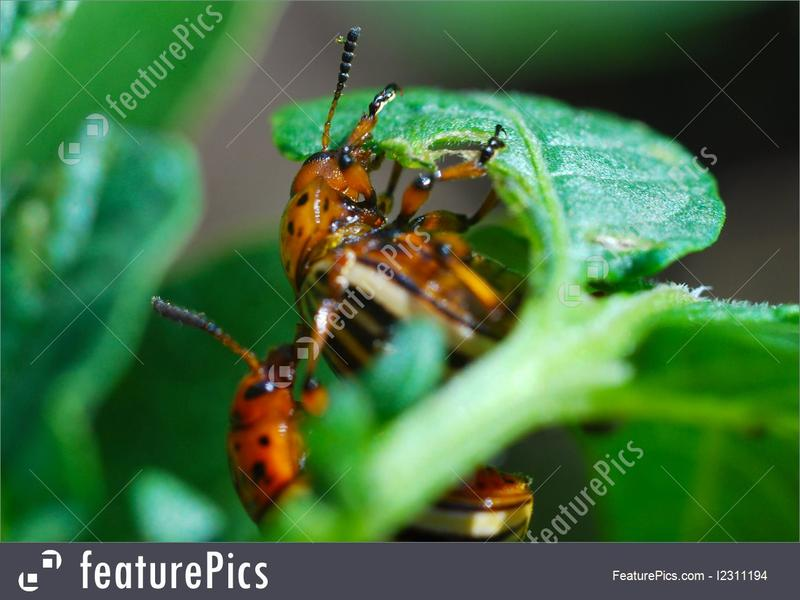hrosc: (269, 111, 512, 365)
